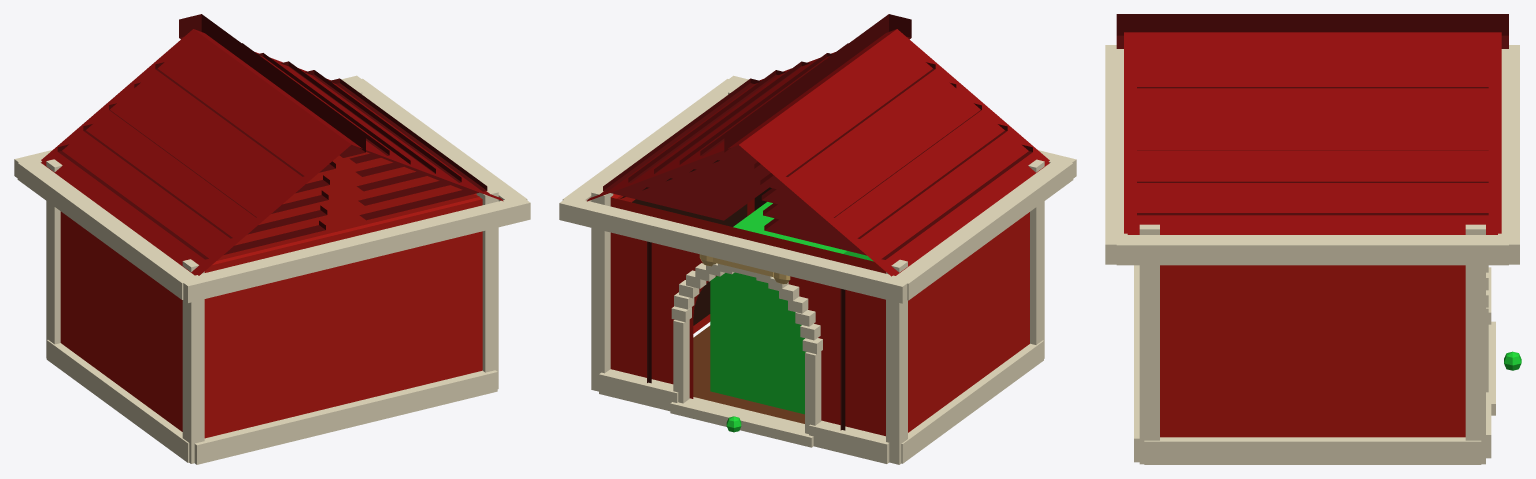
File: open_interior_peaked_roof_doghouse.obj
The picture shows the model from 3 angles, left to right: view 1: azimuth 30°, elevation 25°; view 2: azimuth 150°, elevation 25°; view 3: azimuth 270°, elevation 25°; orthographic projection. The views are drawn at different scales.
Parts seen in each view (by area): view 1: Back_wall_lower_rect, Roof_left_slope_panel_visible_inside_outside, Exterior_left_side_wall_thick, Roof_back_eave_trim_board, Base_back_trim_board, Back_wall_peaked_gable_triangle, Roof_left_lower_eave_side_board, Base_left_trim_board, Back_corner_trim_-1.1, Roof_ridge_cap_board, Roof_right_slope_panel_visible_inside_outside, Roof_right_lower_eave_side_board (+11 smaller); view 2: Roof_left_slope_panel_visible_inside_outside, Exterior_left_side_wall_thick, Guide_Interior_Walkable_Volume_clear_space, Front_wall_right_piece_open_door, Front_wall_left_piece_open_door, Roof_front_eave_trim_board, Roof_left_lower_eave_side_board, Base_left_trim_board, Roof_right_raised_shingle_row_1, Front_corner_trim_-1.1, Roof_ridge_cap_board, Roof_right_slope_panel_visible_inside_outside (+22 smaller); view 3: Roof_right_slope_panel_visible_inside_outside, Exterior_right_side_wall_thick, Roof_right_lower_eave_side_board, Base_right_trim_board, Roof_ridge_cap_board, Back_corner_trim_+1.1, Roof_back_eave_trim_board, Front_corner_trim_+1.1, Roof_front_eave_trim_board, Base_back_trim_board, Roof_right_raised_shingle_row_1, Roof_right_raised_shingle_row_2 (+2 smaller).
Boxes of the visible parts, x1,y1,x2,y2 form: Back_wall_lower_rect: (204,197,482,438); Roof_left_slope_panel_visible_inside_outside: (41,29,351,275); Exterior_left_side_wall_thick: (60,211,182,431); Roof_back_eave_trim_board: (179,196,530,302); Base_back_trim_board: (194,370,497,464); Back_wall_peaked_gable_triangle: (217,152,479,260); Roof_left_lower_eave_side_board: (17,158,198,299); Base_left_trim_board: (46,340,189,462); Back_corner_trim_-1.1: (182,259,204,463); Roof_ridge_cap_board: (179,14,365,157); Roof_right_slope_panel_visible_inside_outside: (194,29,503,201); Roof_right_lower_eave_side_board: (346,78,527,202); Roof_left_slope_panel_visible_inside_outside: (739,29,1049,276); Exterior_left_side_wall_thick: (885,212,1029,435); Guide_Interior_Walkable_Volume_clear_space: (710,202,873,414); Front_wall_right_piece_open_door: (610,199,693,398); Front_wall_left_piece_open_door: (809,246,885,435); Roof_front_eave_trim_board: (559,199,911,303); Roof_left_lower_eave_side_board: (892,162,1073,300); Base_left_trim_board: (901,340,1043,463); Roof_right_raised_shingle_row_1: (603,78,768,220); Front_corner_trim_-1.1: (886,259,907,464); Roof_ridge_cap_board: (724,14,911,158); Roof_right_slope_panel_visible_inside_outside: (587,29,896,201); Roof_right_slope_panel_visible_inside_outside: (1124,32,1501,234); Exterior_right_side_wall_thick: (1160,265,1465,437); Roof_right_lower_eave_side_board: (1116,235,1508,265); Base_right_trim_board: (1144,437,1481,464); Roof_ridge_cap_board: (1116,14,1508,48); Back_corner_trim_+1.1: (1139,224,1159,464); Roof_back_eave_trim_board: (1105,45,1127,264); Front_corner_trim_+1.1: (1465,224,1485,464); Roof_front_eave_trim_board: (1498,45,1519,264); Base_back_trim_board: (1134,265,1139,462); Roof_right_raised_shingle_row_1: (1137,213,1488,215); Roof_right_raised_shingle_row_2: (1137,181,1488,182).
Size of what is drawn, in the model's own units: 2.57 by 2.11 by 2.25.
